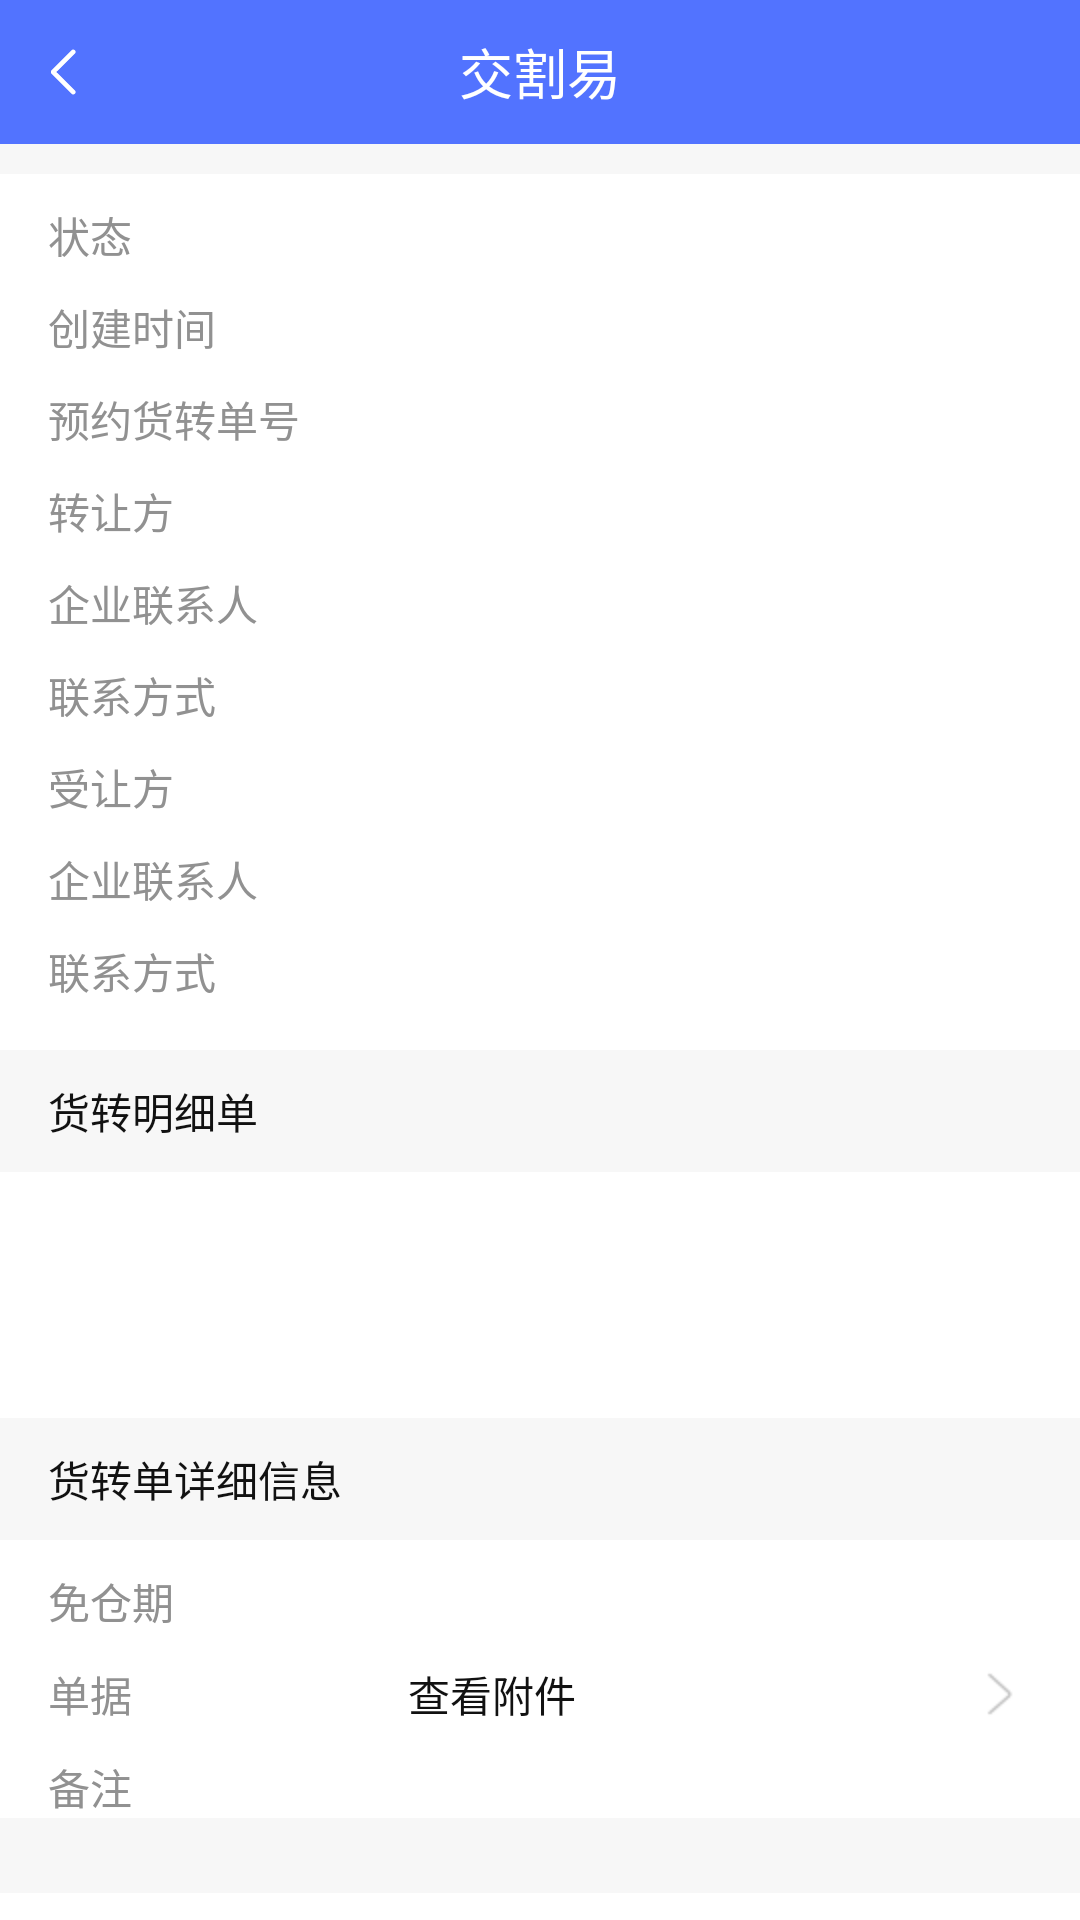

Icons on this 1080×1920 Android screen, each with its box as (x1, y1, x2, y2):
left arrow: (51, 49, 76, 95)
right: (988, 1674, 1011, 1714)
